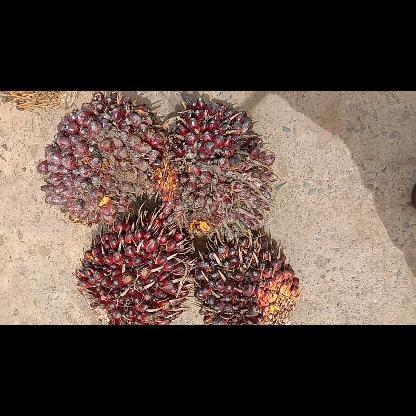Kurang masak: (156, 95, 278, 241), (74, 206, 192, 322)
TBS mentah: (35, 92, 167, 228), (193, 228, 302, 324)
